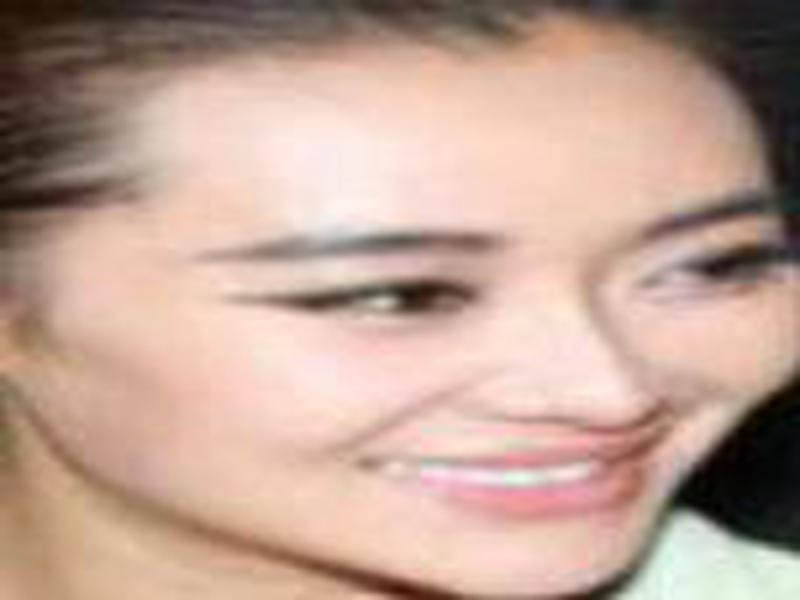without_mask: (10, 36, 800, 600)
